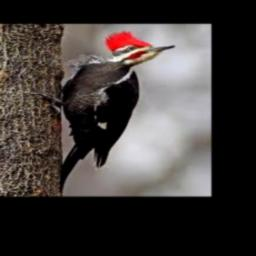Woodpecker: (31, 32, 174, 195)
